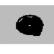correct: (8, 9, 46, 40)
